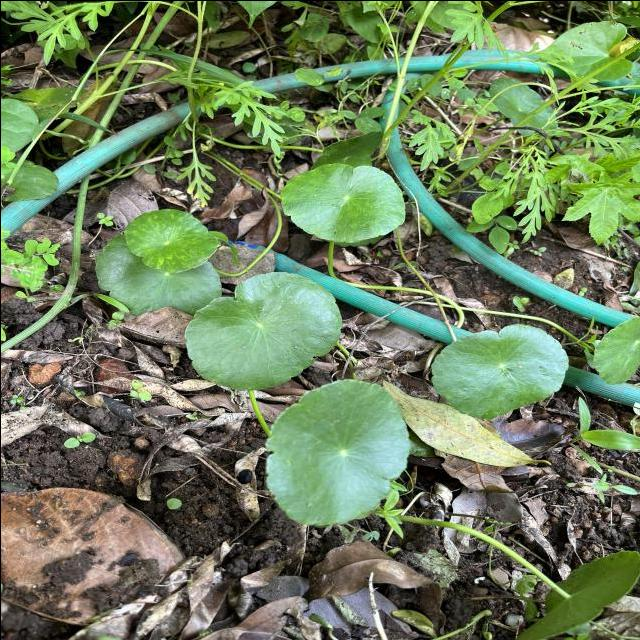Bacopa monnieri: (262, 375, 412, 527), (181, 269, 344, 391), (428, 320, 570, 420), (278, 160, 408, 244), (120, 205, 219, 274), (589, 314, 640, 386)
